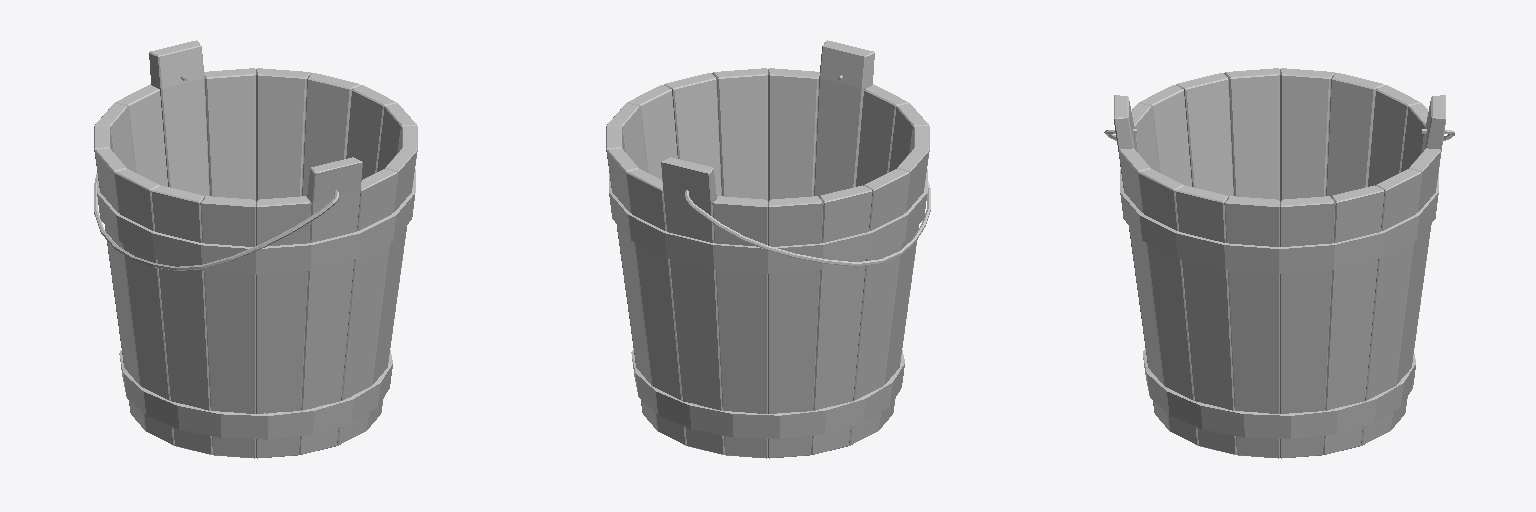
The model's file is woodenBucket.obj.
3 renders of one model, left to right at view 1: azimuth 30°, elevation 25°; view 2: azimuth 150°, elevation 25°; view 3: azimuth 270°, elevation 25°, orthographic.
Parts seen in each view (by area): view 1: woodenBucket, Cube.041; view 2: woodenBucket, Cube.041; view 3: woodenBucket, Cube.041.
Boxes of the visible parts, x1,y1,x2,y2 form: woodenBucket: [94, 40, 417, 458]; Cube.041: [94, 75, 415, 439]; woodenBucket: [606, 40, 929, 458]; Cube.041: [609, 75, 930, 438]; woodenBucket: [1114, 68, 1445, 458]; Cube.041: [1104, 129, 1454, 438].
Size of the model in its own units: 0.2882 by 0.29 by 0.3084.